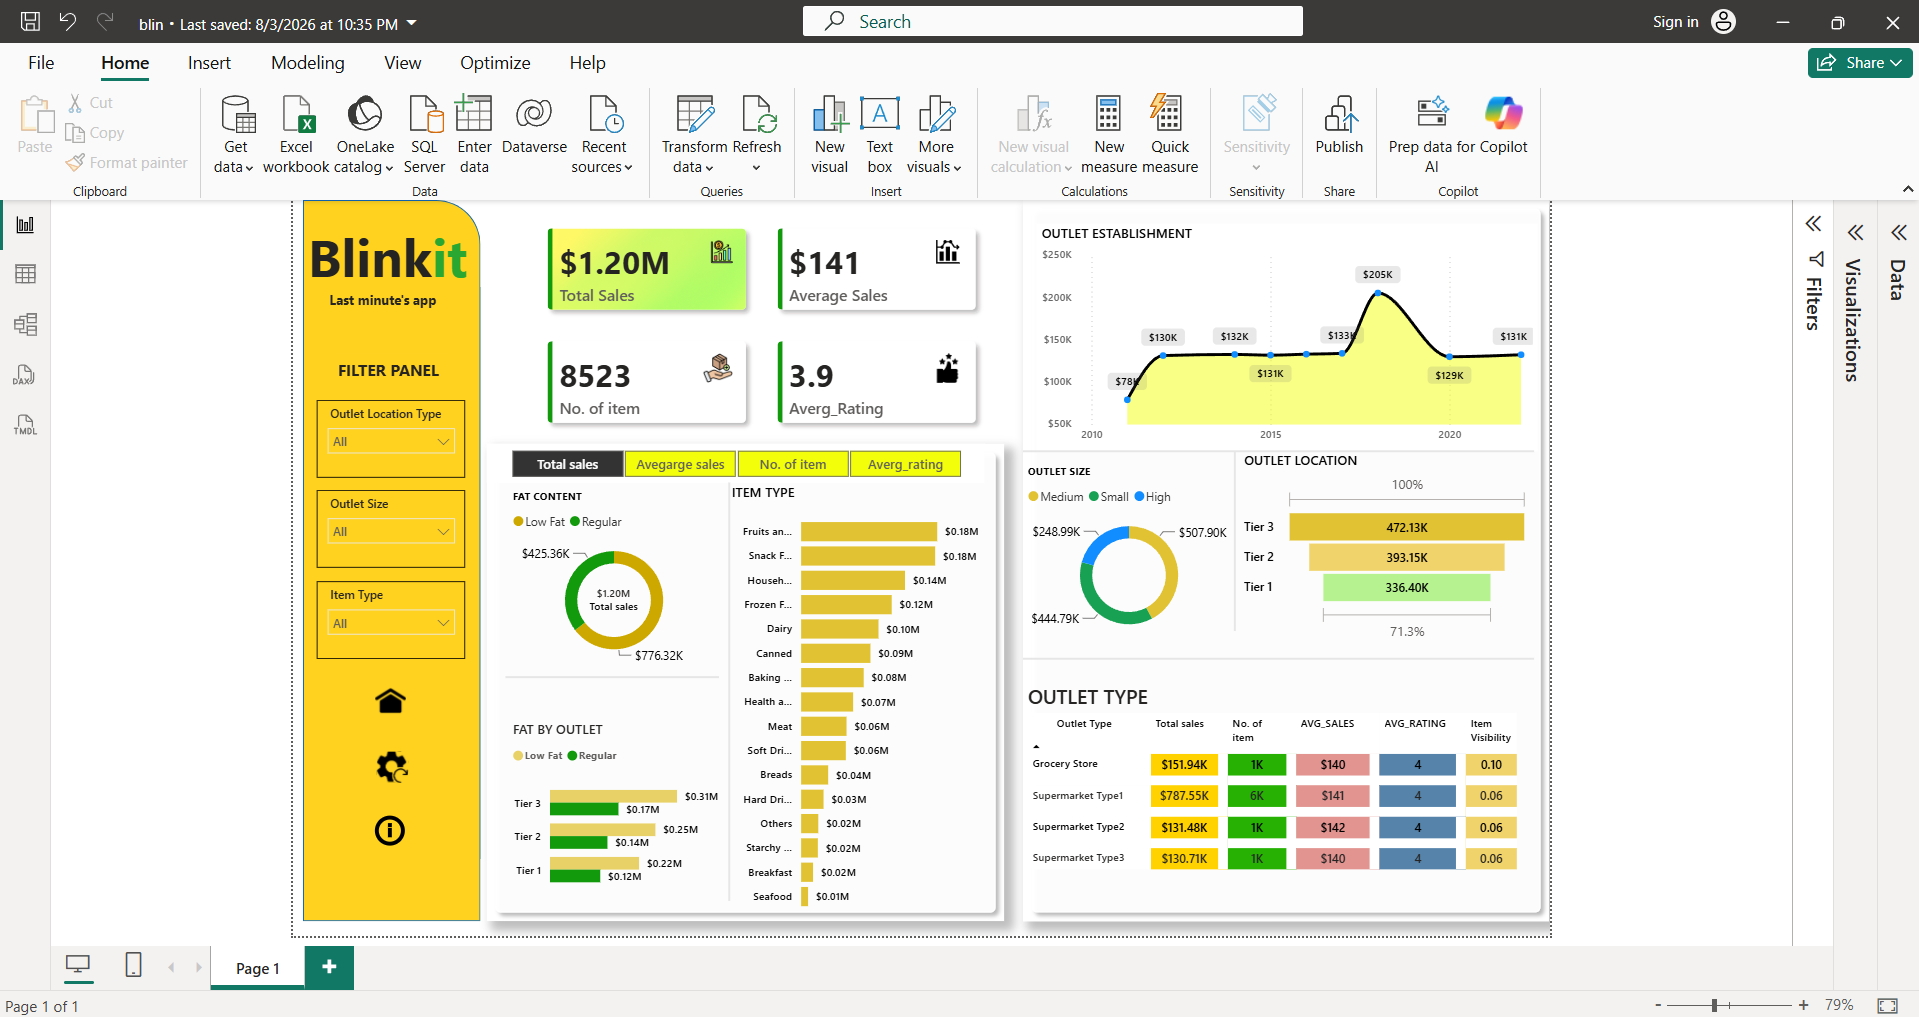

The page's visual inventory and layout, read from the dashboard file:
{"tool":"powerbi","page":{"name":"Page 1","canvas":[1280,750],"ordinal":0},"visuals":[{"type":"shape","box":[10.2,0,180.9,735],"z":0},{"type":"textbox","box":[10.5,16.4,180.5,112.5],"z":1000},{"type":"cardVisual","fields":{"Data":["BlinkIT Grocery Data.total sales","BlinkIT Grocery Data.avegarge sales","BlinkIT Grocery Data.No. of item","BlinkIT Grocery Data.averg_rating"]},"box":[230.6,0,494.2,256],"z":2000},{"type":"shape","box":[197.4,248.4,527.3,486.6],"z":3000},{"type":"slicer","title":" Fat Content","fields":{"Values":["BlinkIT Grocery Data.Outlet Location Type"]},"box":[24.2,203.8,151.6,79],"z":4000},{"type":"slicer","fields":{"Values":["Metrics.Metrics"]},"box":[198,248.4,507.4,39.8],"z":5000},{"type":"cardVisual","fields":{"Data":["BlinkIT Grocery Data.Total sales"]},"box":[273.9,374.5,107,65],"z":6000},{"type":"clusteredBarChart","title":"FAT BY OUTLET","fields":{"Y":["BlinkIT Grocery Data.Total sales"],"Category":["BlinkIT Grocery Data.Outlet Location Type"],"Series":["BlinkIT Grocery Data.Item Fat Content"]},"box":[219.1,529.9,220.3,185.2],"z":7000},{"type":"shape","box":[216.8,467.6,218,37.5],"z":8000},{"type":"shape","box":[436.9,287.9,15.3,426.7],"z":9000},{"type":"barChart","title":"ITEM TYPE","fields":{"Y":["BlinkIT Grocery Data.Total sales"],"Category":["BlinkIT Grocery Data.Item Type"]},"box":[442,287.9,262.4,447.1],"z":10000},{"type":"shape","box":[743.9,0,536.3,735],"z":11000},{"type":"lineChart","title":"OUTLET ESTABLISHMENT","fields":{"Category":["BlinkIT Grocery Data.Outlet Establishment Year"],"Y":["BlinkIT Grocery Data.Total sales"]},"box":[757.9,24.2,510.8,231.8],"z":12000},{"type":"donutChart","title":"OUTLET SIZE","fields":{"Y":["BlinkIT Grocery Data.Total sales"],"Category":["BlinkIT Grocery Data.Outlet Size"]},"box":[743.9,268.8,216.5,186],"z":13000},{"type":"shape","box":[743.9,243.3,521,25.5],"z":14000},{"type":"shape","box":[952.8,256,14,183.4],"z":15000},{"type":"funnel","title":"OUTLET LOCATION","fields":{"Y":["Sum(BlinkIT Grocery Data.Sales)"],"Category":["BlinkIT Grocery Data.Outlet Location Type"]},"box":[964.3,256,300.6,198.7],"z":16000},{"type":"shape","box":[743.9,454.7,521,25.5],"z":17000},{"type":"pivotTable","title":"OUTLET TYPE","fields":{"Values":["BlinkIT Grocery Data.Total sales","BlinkIT Grocery Data.No. of item","BlinkIT Grocery Data.avegarge sales","BlinkIT Grocery Data.averg_rating","Avg(BlinkIT Grocery Data.Item Visibility)"],"Rows":["BlinkIT Grocery Data.Outlet Type"]},"box":[743.9,491.7,521,243.3],"z":18000},{"type":"donutChart","title":"FAT CONTENT ","fields":{"Y":["BlinkIT Grocery Data.Total sales"],"Category":["BlinkIT Grocery Data.Item Fat Content"]},"box":[219.1,294.2,216.5,186],"z":19000},{"type":"slicer","title":" Fat Content","fields":{"Values":["BlinkIT Grocery Data.Outlet Size"]},"box":[24.2,295.5,151.6,79],"z":20000},{"type":"slicer","title":" Fat Content","fields":{"Values":["BlinkIT Grocery Data.Item Type"]},"box":[24.2,388.5,151.6,79],"z":21000},{"type":"textbox","box":[40.8,156.7,115.9,36.9],"z":22000},{"type":"actionButton","box":[79,622.9,40.8,39.5],"z":23000},{"type":"actionButton","box":[79,490.4,40.8,39.5],"z":24000},{"type":"actionButton","box":[51,557.9,100,40],"z":25000}]}

Visuals, with their boxes on the page's 1280x750 design canvas (x1, y1, x2, y2). These are canvas units, not pixel positions in the 1919x1017 screenshot, which may show the page scaled, cropped or inside an application window:
shape: detection(10, 0, 191, 735)
textbox: detection(10, 16, 191, 129)
cardVisual - BlinkIT Grocery Data.total sales x BlinkIT Grocery Data.avegarge sales: detection(231, 0, 725, 256)
shape: detection(197, 248, 725, 735)
" Fat Content" slicer: detection(24, 204, 176, 283)
slicer - Metrics.Metrics: detection(198, 248, 705, 288)
cardVisual - BlinkIT Grocery Data.Total sales: detection(274, 374, 381, 440)
"FAT BY OUTLET" clusteredBarChart: detection(219, 530, 439, 715)
shape: detection(217, 468, 435, 505)
shape: detection(437, 288, 452, 715)
"ITEM TYPE" barChart: detection(442, 288, 704, 735)
shape: detection(744, 0, 1280, 735)
"OUTLET ESTABLISHMENT" lineChart: detection(758, 24, 1269, 256)
"OUTLET SIZE" donutChart: detection(744, 269, 960, 455)
shape: detection(744, 243, 1265, 269)
shape: detection(953, 256, 967, 439)
"OUTLET LOCATION" funnel: detection(964, 256, 1265, 455)
shape: detection(744, 455, 1265, 480)
"OUTLET TYPE" pivotTable: detection(744, 492, 1265, 735)
"FAT CONTENT " donutChart: detection(219, 294, 436, 480)
" Fat Content" slicer: detection(24, 296, 176, 374)
" Fat Content" slicer: detection(24, 388, 176, 468)
textbox: detection(41, 157, 157, 194)
actionButton: detection(79, 623, 120, 662)
actionButton: detection(79, 490, 120, 530)
actionButton: detection(51, 558, 151, 598)
